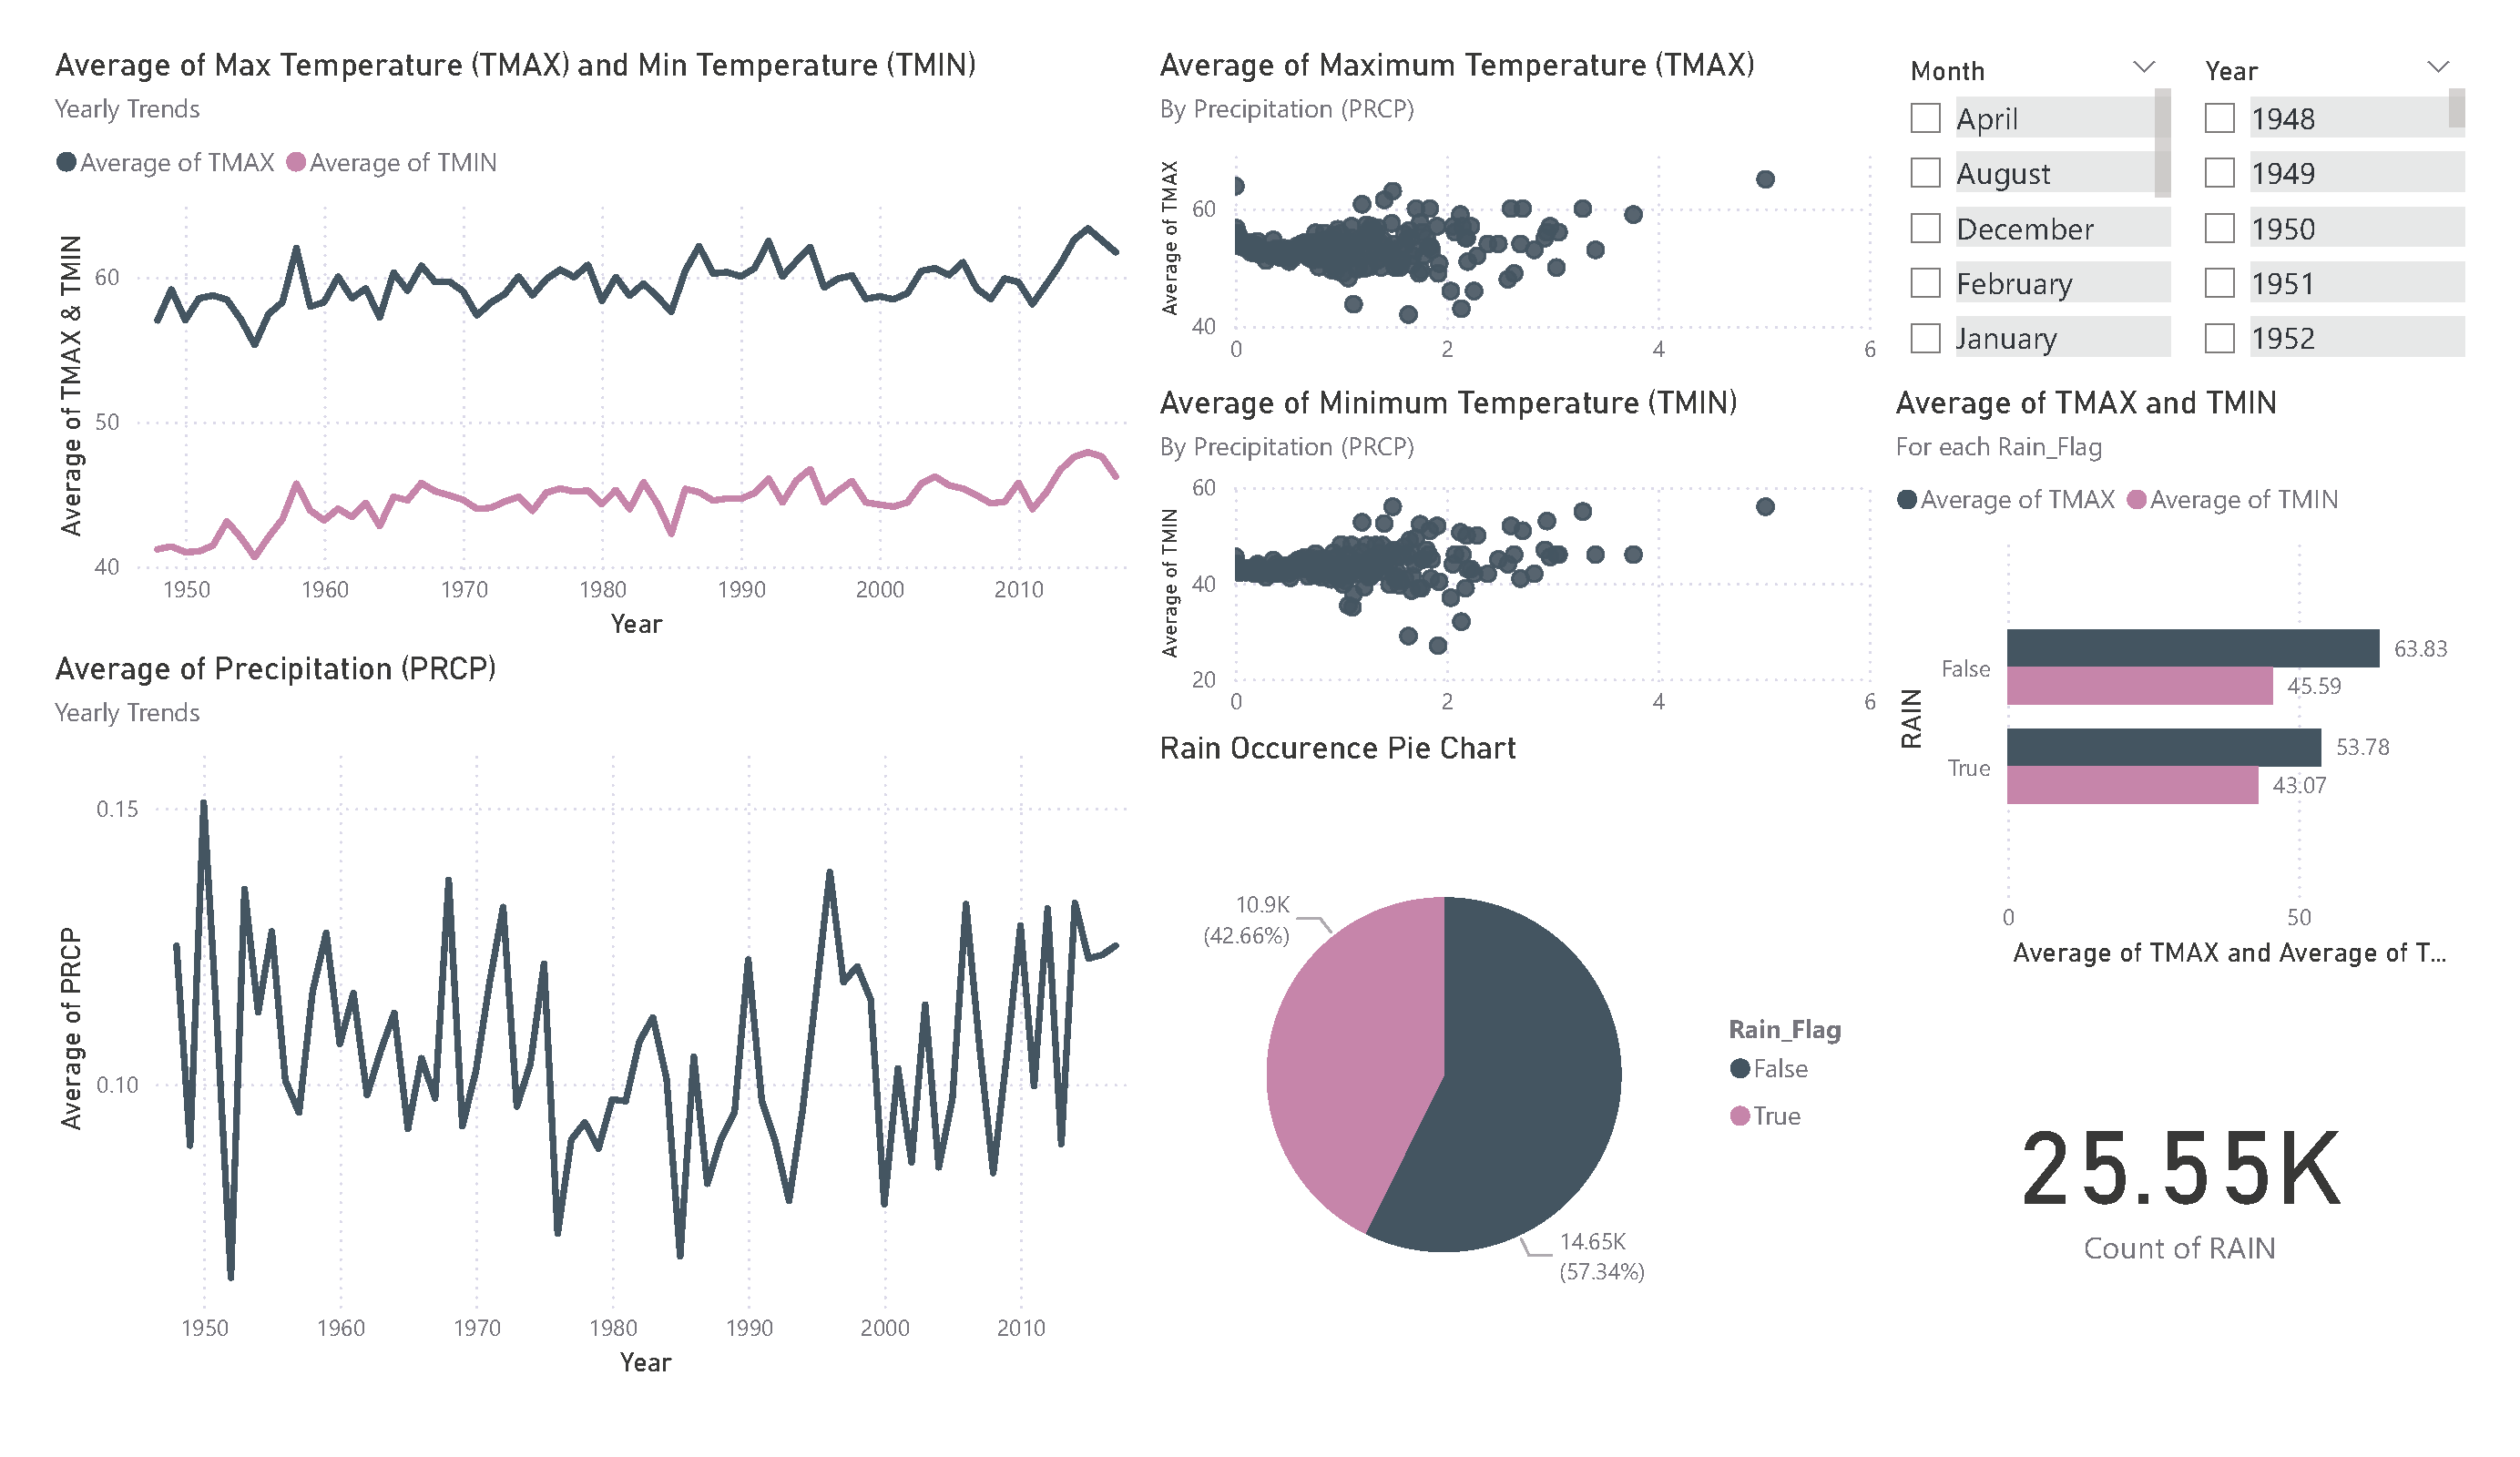

Layout of this report page (visuals, bound fields, positions):
{"tool":"powerbi","page":{"name":"Page 1","canvas":[1280,720],"ordinal":0},"visuals":[{"type":"slicer","fields":{"Values":["seattle_weather_1948-2017.Month"]},"box":[969.9,0,154.9,169.3],"z":0},{"type":"lineChart","title":"Average of Max Temperature (TMAX) and Min Temperature (TMIN)","fields":{"Y":["Avg(seattle_weather_1948-2017.TMAX)","Avg(seattle_weather_1948-2017.TMIN)"],"Category":["seattle_weather_1948-2017.DATE.Variation.Date Hierarchy.Year"]},"box":[0,0,582.1,317.9],"z":1000},{"type":"slicer","fields":{"Values":["seattle_weather_1948-2017.Year"]},"box":[1124.8,0,154.9,169.3],"z":2000},{"type":"lineChart","title":"Average of Precipitation (PRCP)","fields":{"Category":["seattle_weather_1948-2017.DATE.Variation.Date Hierarchy.Year"],"Y":["Avg(seattle_weather_1948-2017.PRCP)"]},"box":[0,317.9,582.1,388.7],"z":3000},{"type":"pieChart","title":"Rain Occurence Pie Chart","fields":{"Category":["seattle_weather_1948-2017.RAIN"],"Y":["CountNonNull(seattle_weather_1948-2017.RAIN)"]},"box":[582,360,388,346],"z":4000},{"type":"scatterChart","title":"Average of Maximum Temperature (TMAX)","fields":{"Y":["Avg(seattle_weather_1948-2017.TMAX)"],"X":["seattle_weather_1948-2017.PRCP"]},"box":[582,0,388,178],"z":5000},{"type":"scatterChart","title":"Average of Minimum Temperature (TMIN)","fields":{"Y":["Avg(seattle_weather_1948-2017.TMIN)"],"X":["seattle_weather_1948-2017.PRCP"]},"box":[582,178,388,186],"z":6000},{"type":"card","fields":{"Values":["CountNonNull(seattle_weather_1948-2017.RAIN)"]},"box":[970,491,310,208],"z":7000},{"type":"clusteredBarChart","title":"Average of TMAX and TMIN","fields":{"Category":["seattle_weather_1948-2017.RAIN"],"Y":["Avg(seattle_weather_1948-2017.TMAX)","Avg(seattle_weather_1948-2017.TMIN)"]},"box":[970,178,310,313],"z":8000}]}

Visuals, with their boxes in screenshot pixels (x1, y1, x2, y2):
slicer - seattle_weather_1948-2017.Month: (1886, 46, 2180, 367)
"Average of Max Temperature (TMAX) and Min Temperature (TMIN)" lineChart: (46, 46, 1150, 648)
slicer - seattle_weather_1948-2017.Year: (2180, 46, 2474, 367)
"Average of Precipitation (PRCP)" lineChart: (46, 648, 1150, 1386)
"Rain Occurence Pie Chart" pieChart: (1150, 728, 1886, 1385)
"Average of Maximum Temperature (TMAX)" scatterChart: (1150, 46, 1886, 383)
"Average of Minimum Temperature (TMIN)" scatterChart: (1150, 383, 1886, 736)
card - CountNonNull(seattle_weather_1948-2017.RAIN): (1886, 977, 2474, 1371)
"Average of TMAX and TMIN" clusteredBarChart: (1886, 383, 2474, 977)
